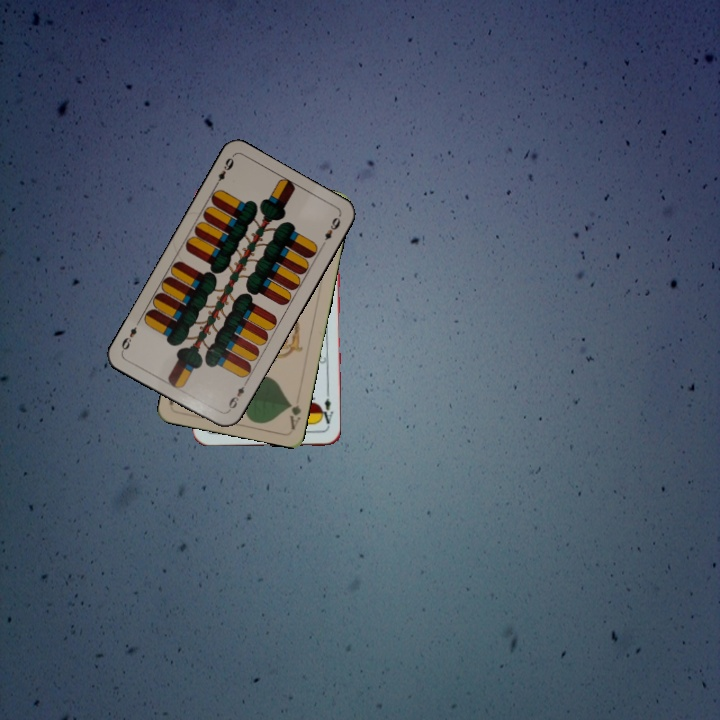E9: (224, 377, 250, 414), (211, 152, 236, 189)
EA: (316, 389, 336, 430)
GA: (285, 399, 304, 431)
